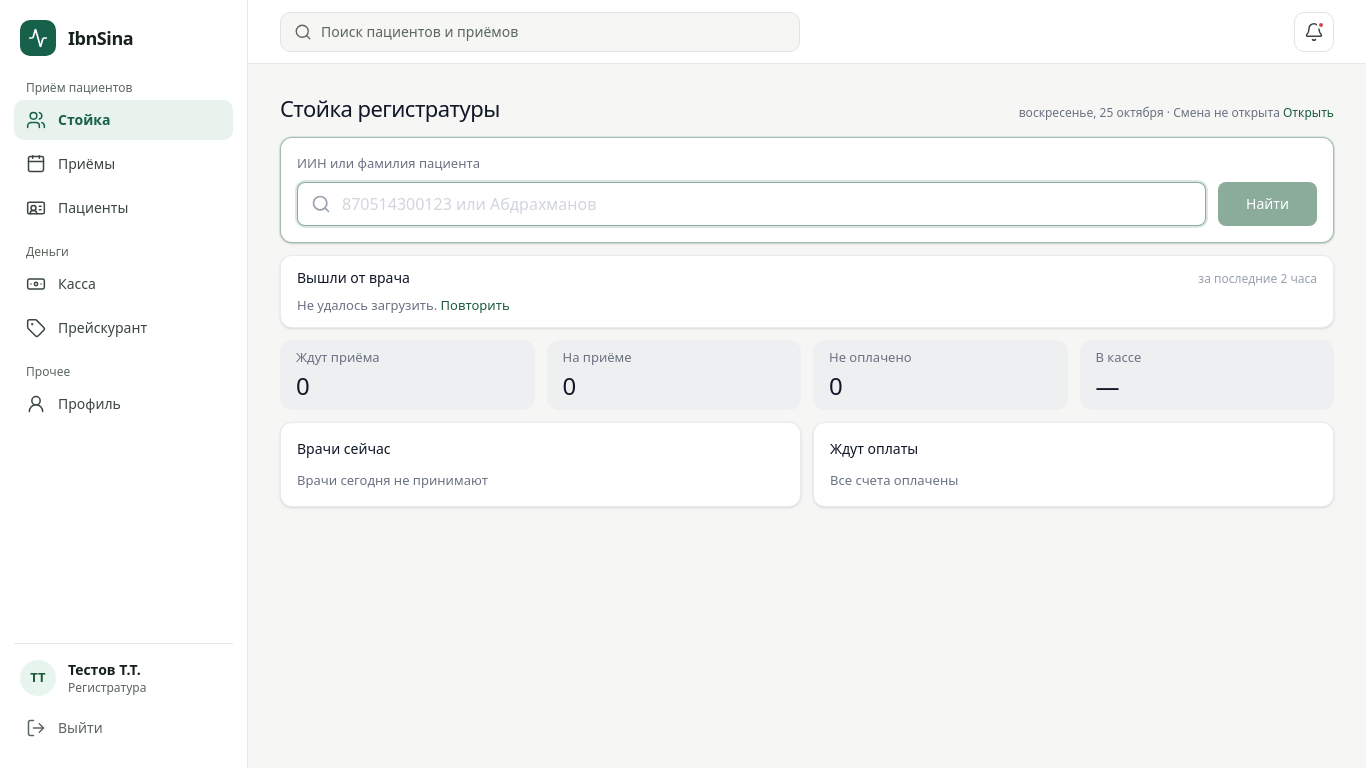
Test: запись прямо со стойки › ошибка бэкенда при записи (врач не принимает в этот день): сообщение в окне, форма остаётся
Type "870514300123" into the field labelled "ИИН или фамилия пациента".
click(752, 204); type("870514300123")  # box [297,182,1206,226]
Then press Enter
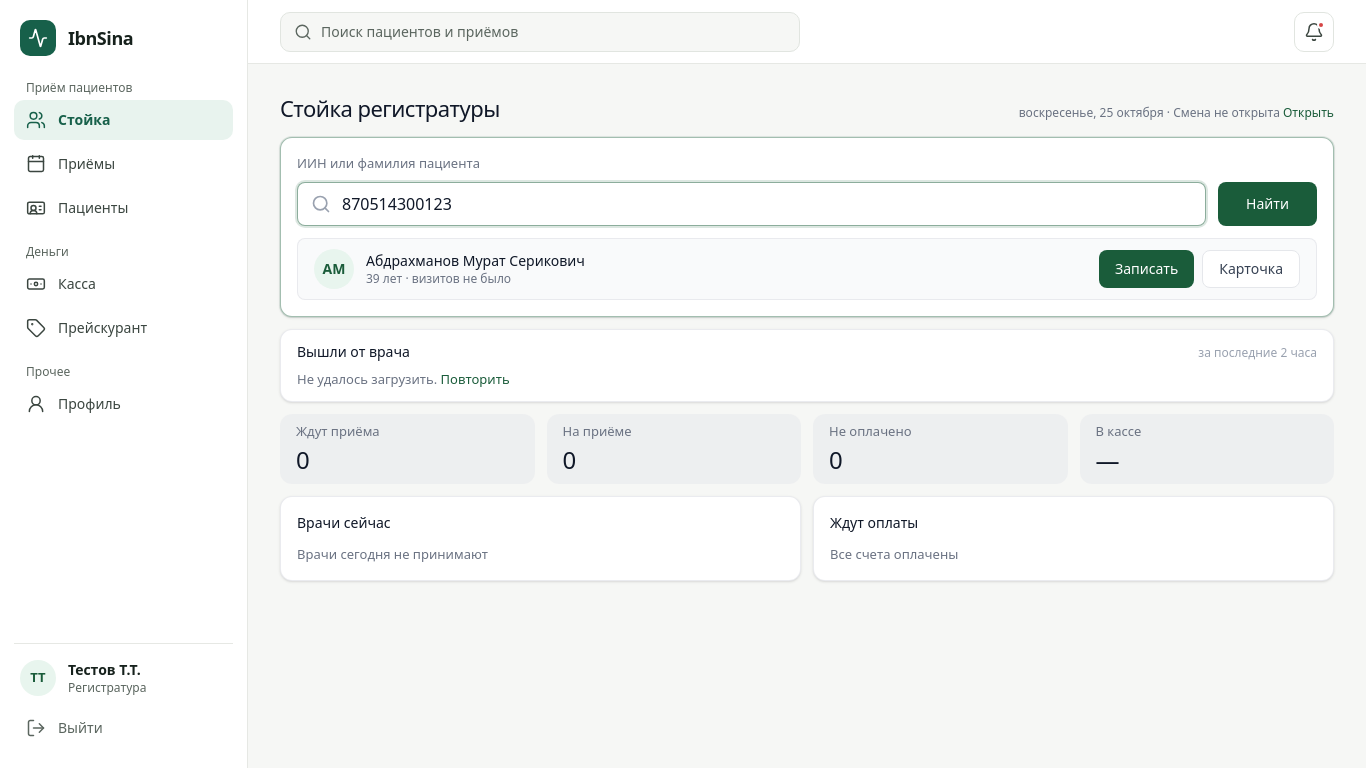
Check: the text "Абдрахманов Мурат Серикович" is shown, box [366,250,585,270]
Click the button "Записать".
click(1147, 268)  # box [1099,250,1194,288]
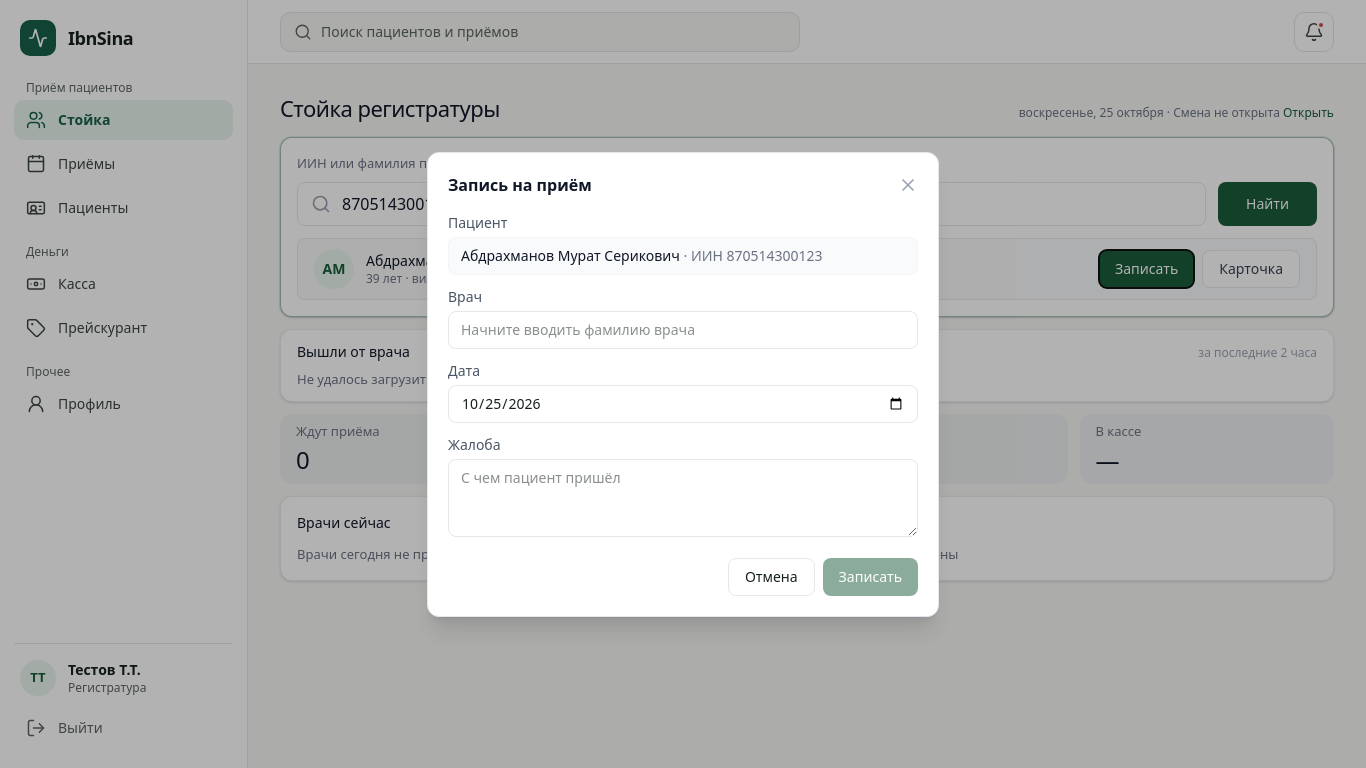
Type "Сери" into the field with placeholder "Начните вводить фамилию врача".
click(683, 330); type("Сери")  # box [448,310,918,348]
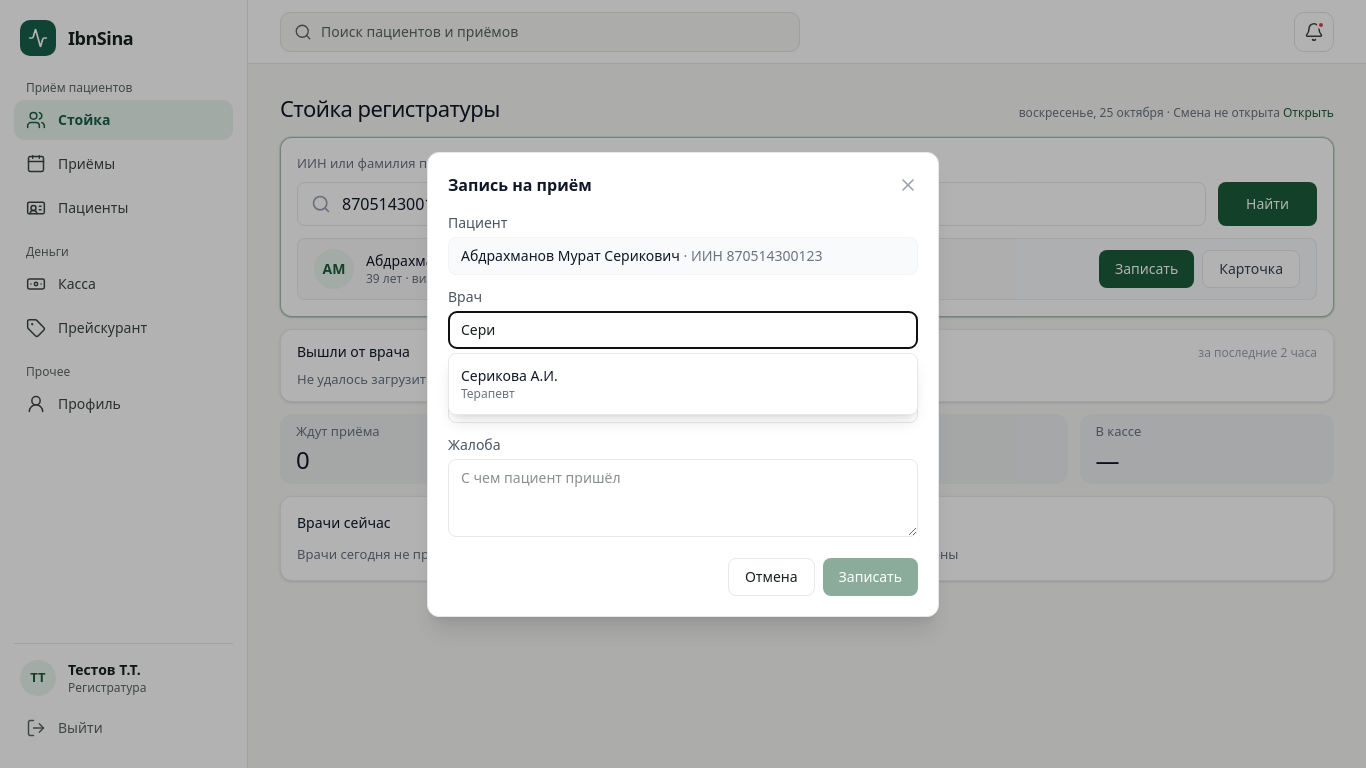
Click the text "Серикова А.И.".
click(509, 376)  # box [461,366,558,386]
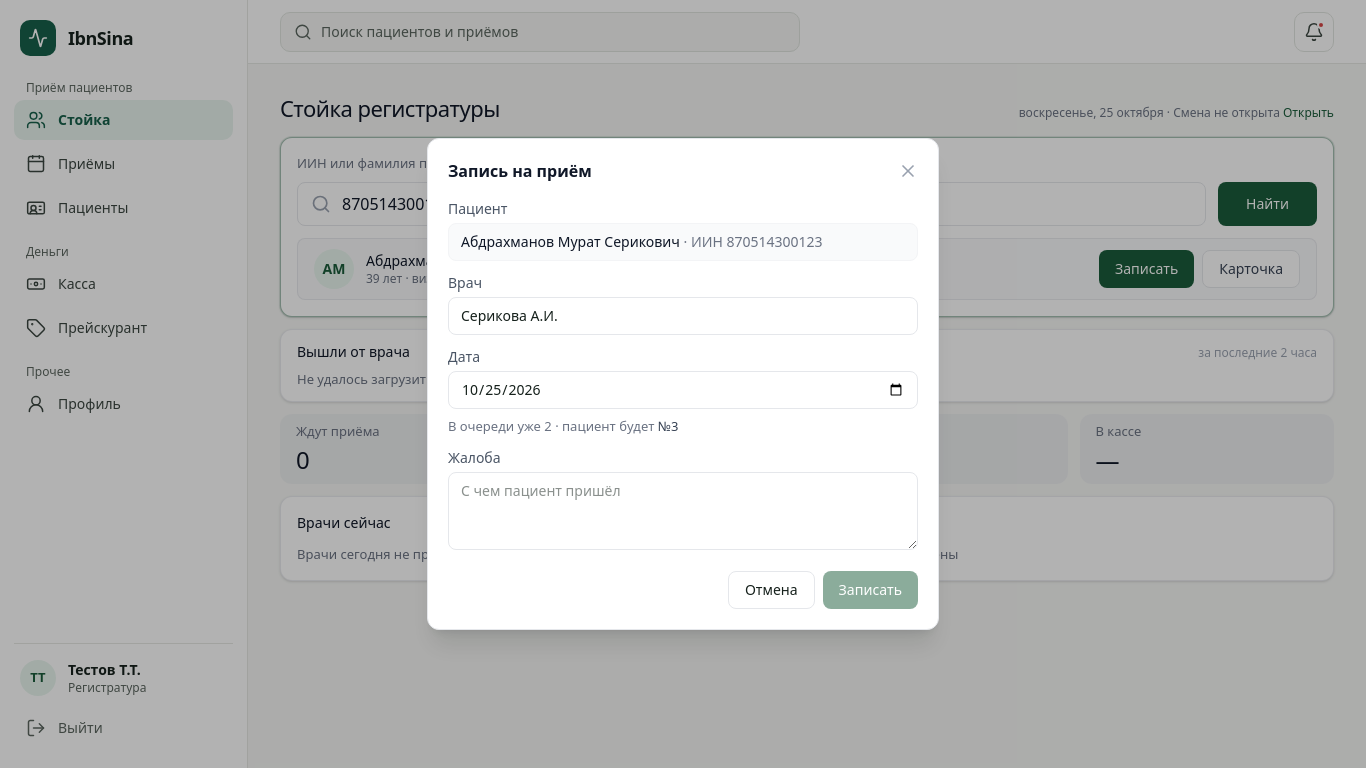
Check: the field showing "Серикова А.И." is shown, box [448,297,918,335]
Type "Кашель" into the text box labelled "Жалоба".
click(683, 511); type("Кашель")  # box [448,472,918,550]
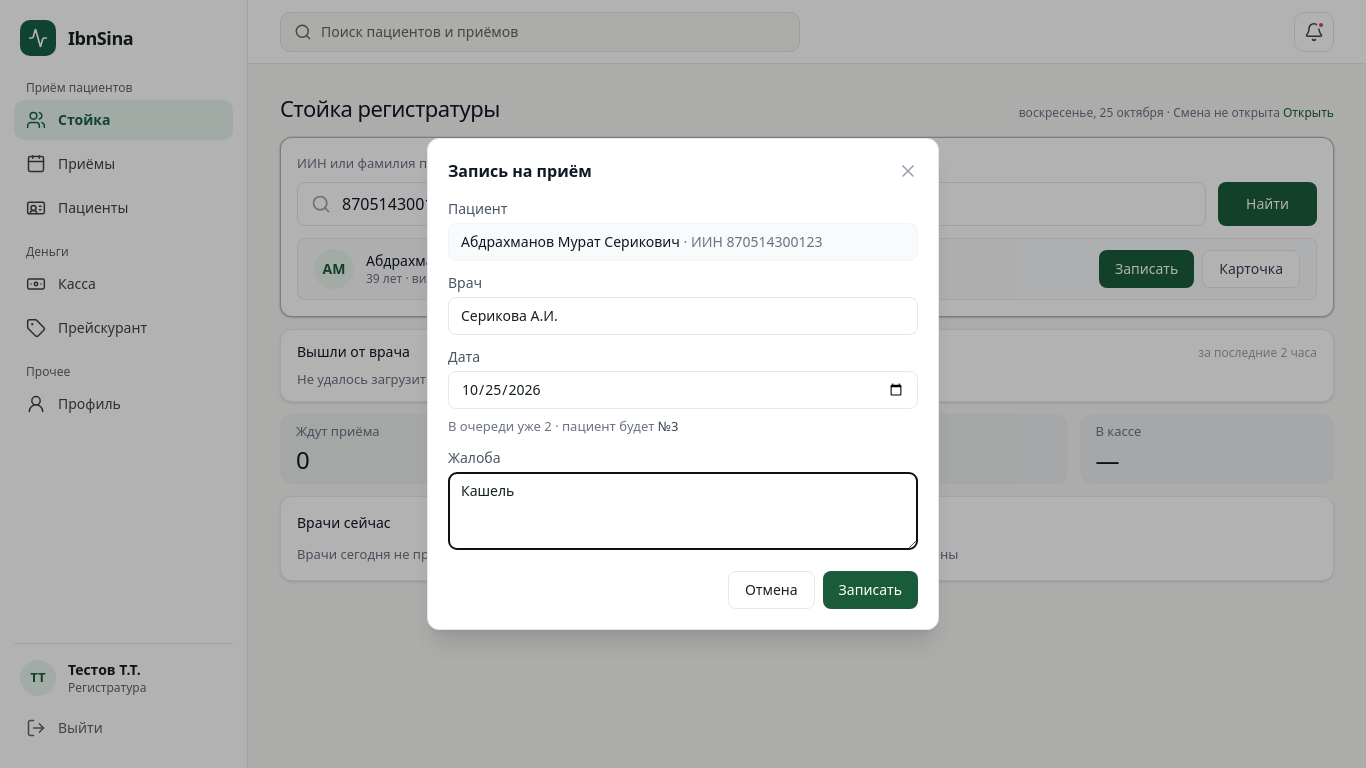
Click the button "Записать".
click(870, 590)  # box [823,571,918,609]
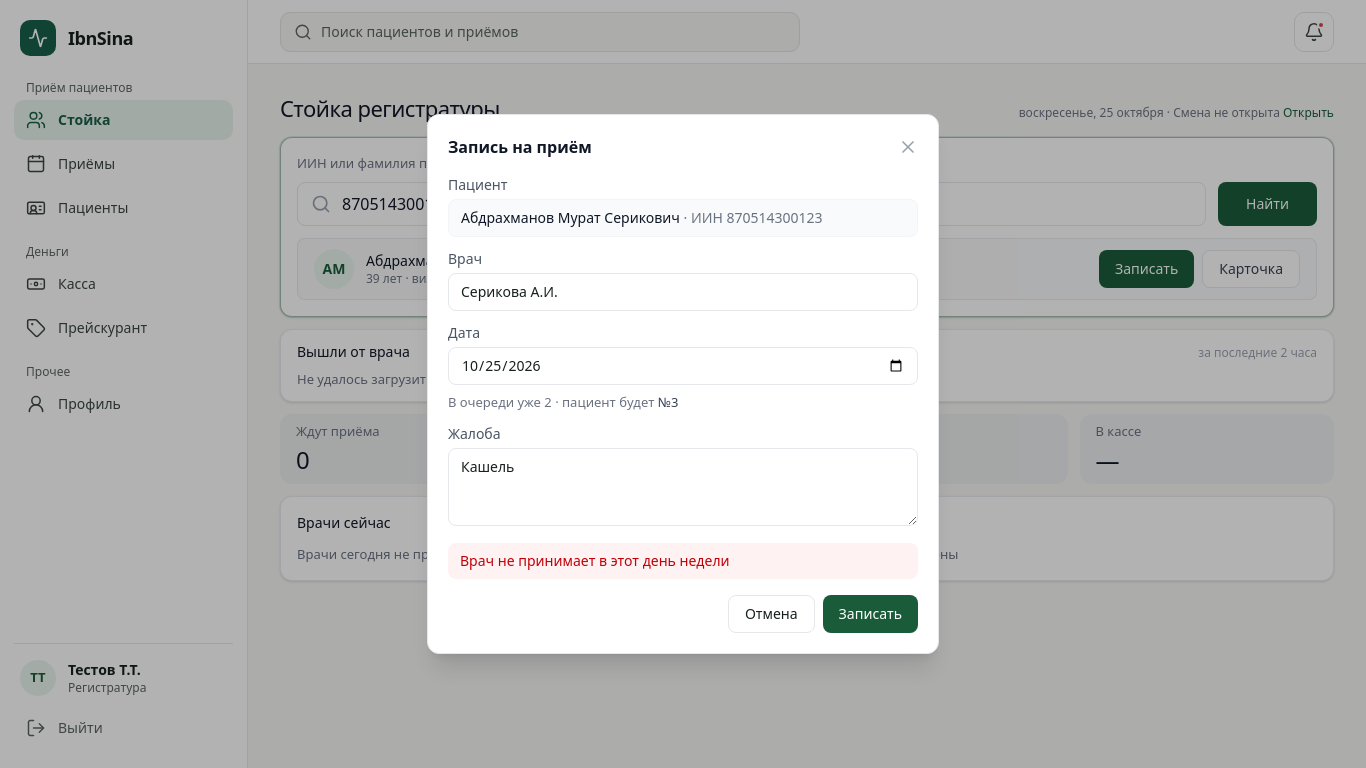
Check: the dialog is shown, box [427,114,939,654]
Check: the message reads "Врач не принимает в этот день недели", box [460,551,730,570]
